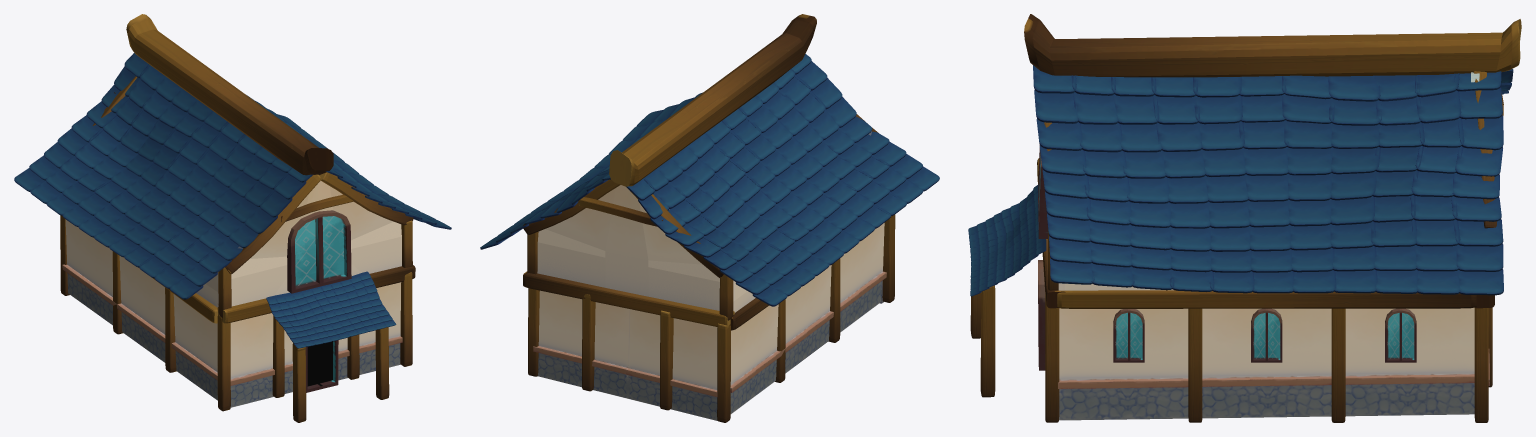
Rendered from Building.glb.
The picture shows the model from 3 angles, left to right: view 1: azimuth 30°, elevation 25°; view 2: azimuth 150°, elevation 25°; view 3: azimuth 270°, elevation 25°; orthographic projection. The views are drawn at different scales.
Parts seen in each view (by area): view 1: Plane.004, Wall.004, Cube.008, Wall, Wall.003, Plane.008, Plane.005, Cube.007, Plane.003, Plane.009, Cube.009, Cube.020 (+11 smaller); view 2: Plane.004, Wall.005, Wall.006, Wall.004, Cube.008, Cube.007, Cube.010, Plane.003, Cube.028, Cube.027, Cube.001, Cube.023 (+5 smaller); view 3: Plane.003, Wall.001, Cube.008, Cube.011, Cube.001, Plane.008, Plane.007, Plane.006, Cube.024, Plane, Plane.009, Plane.005 (+1 smaller).
Boxes of the visible parts, left/top/right/bottom form: Plane.004: left=14, top=53, right=313, bottom=299; Wall.004: left=62, top=219, right=217, bottom=400; Cube.008: left=126, top=14, right=333, bottom=175; Wall: left=231, top=180, right=401, bottom=306; Wall.003: left=230, top=282, right=402, bottom=407; Plane.008: left=266, top=271, right=396, bottom=348; Plane.005: left=287, top=210, right=351, bottom=293; Cube.007: left=60, top=215, right=230, bottom=411; Plane.003: left=247, top=95, right=451, bottom=229; Plane.009: left=305, top=340, right=338, bottom=392; Cube.009: left=217, top=265, right=415, bottom=323; Cube.020: left=225, top=174, right=320, bottom=274; Plane.004: left=626, top=54, right=939, bottom=306; Wall.005: left=533, top=290, right=717, bottom=420; Wall.006: left=537, top=185, right=719, bottom=310; Wall.004: left=730, top=223, right=886, bottom=413; Cube.008: left=609, top=14, right=816, bottom=186; Cube.007: left=717, top=214, right=895, bottom=422; Cube.010: left=523, top=271, right=734, bottom=327; Plane.003: left=480, top=92, right=702, bottom=249; Cube.028: left=660, top=310, right=673, bottom=410; Cube.027: left=582, top=294, right=595, bottom=391; Cube.001: left=528, top=288, right=539, bottom=376; Cube.023: left=523, top=179, right=620, bottom=234; Plane.003: left=1033, top=65, right=1503, bottom=295; Wall.001: left=1058, top=307, right=1474, bottom=420; Cube.008: left=1024, top=14, right=1521, bottom=77; Cube.011: left=1057, top=290, right=1476, bottom=308; Cube.001: left=1045, top=293, right=1488, bottom=422; Plane.008: left=968, top=184, right=1046, bottom=296; Plane.007: left=1385, top=308, right=1416, bottom=362; Plane.006: left=1251, top=308, right=1282, bottom=362; Cube.024: left=980, top=285, right=995, bottom=397; Plane: left=1113, top=309, right=1144, bottom=362; Plane.009: left=1038, top=260, right=1045, bottom=370; Plane.005: left=1038, top=144, right=1048, bottom=238.
Bounding box in the file's own units: 16.95 × 14.61 × 21.3.
3 materials, 2 textured.
